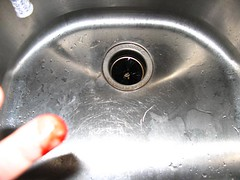blood: (35, 113, 69, 155)
